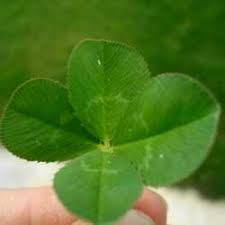4-clover: (6, 40, 222, 221)
